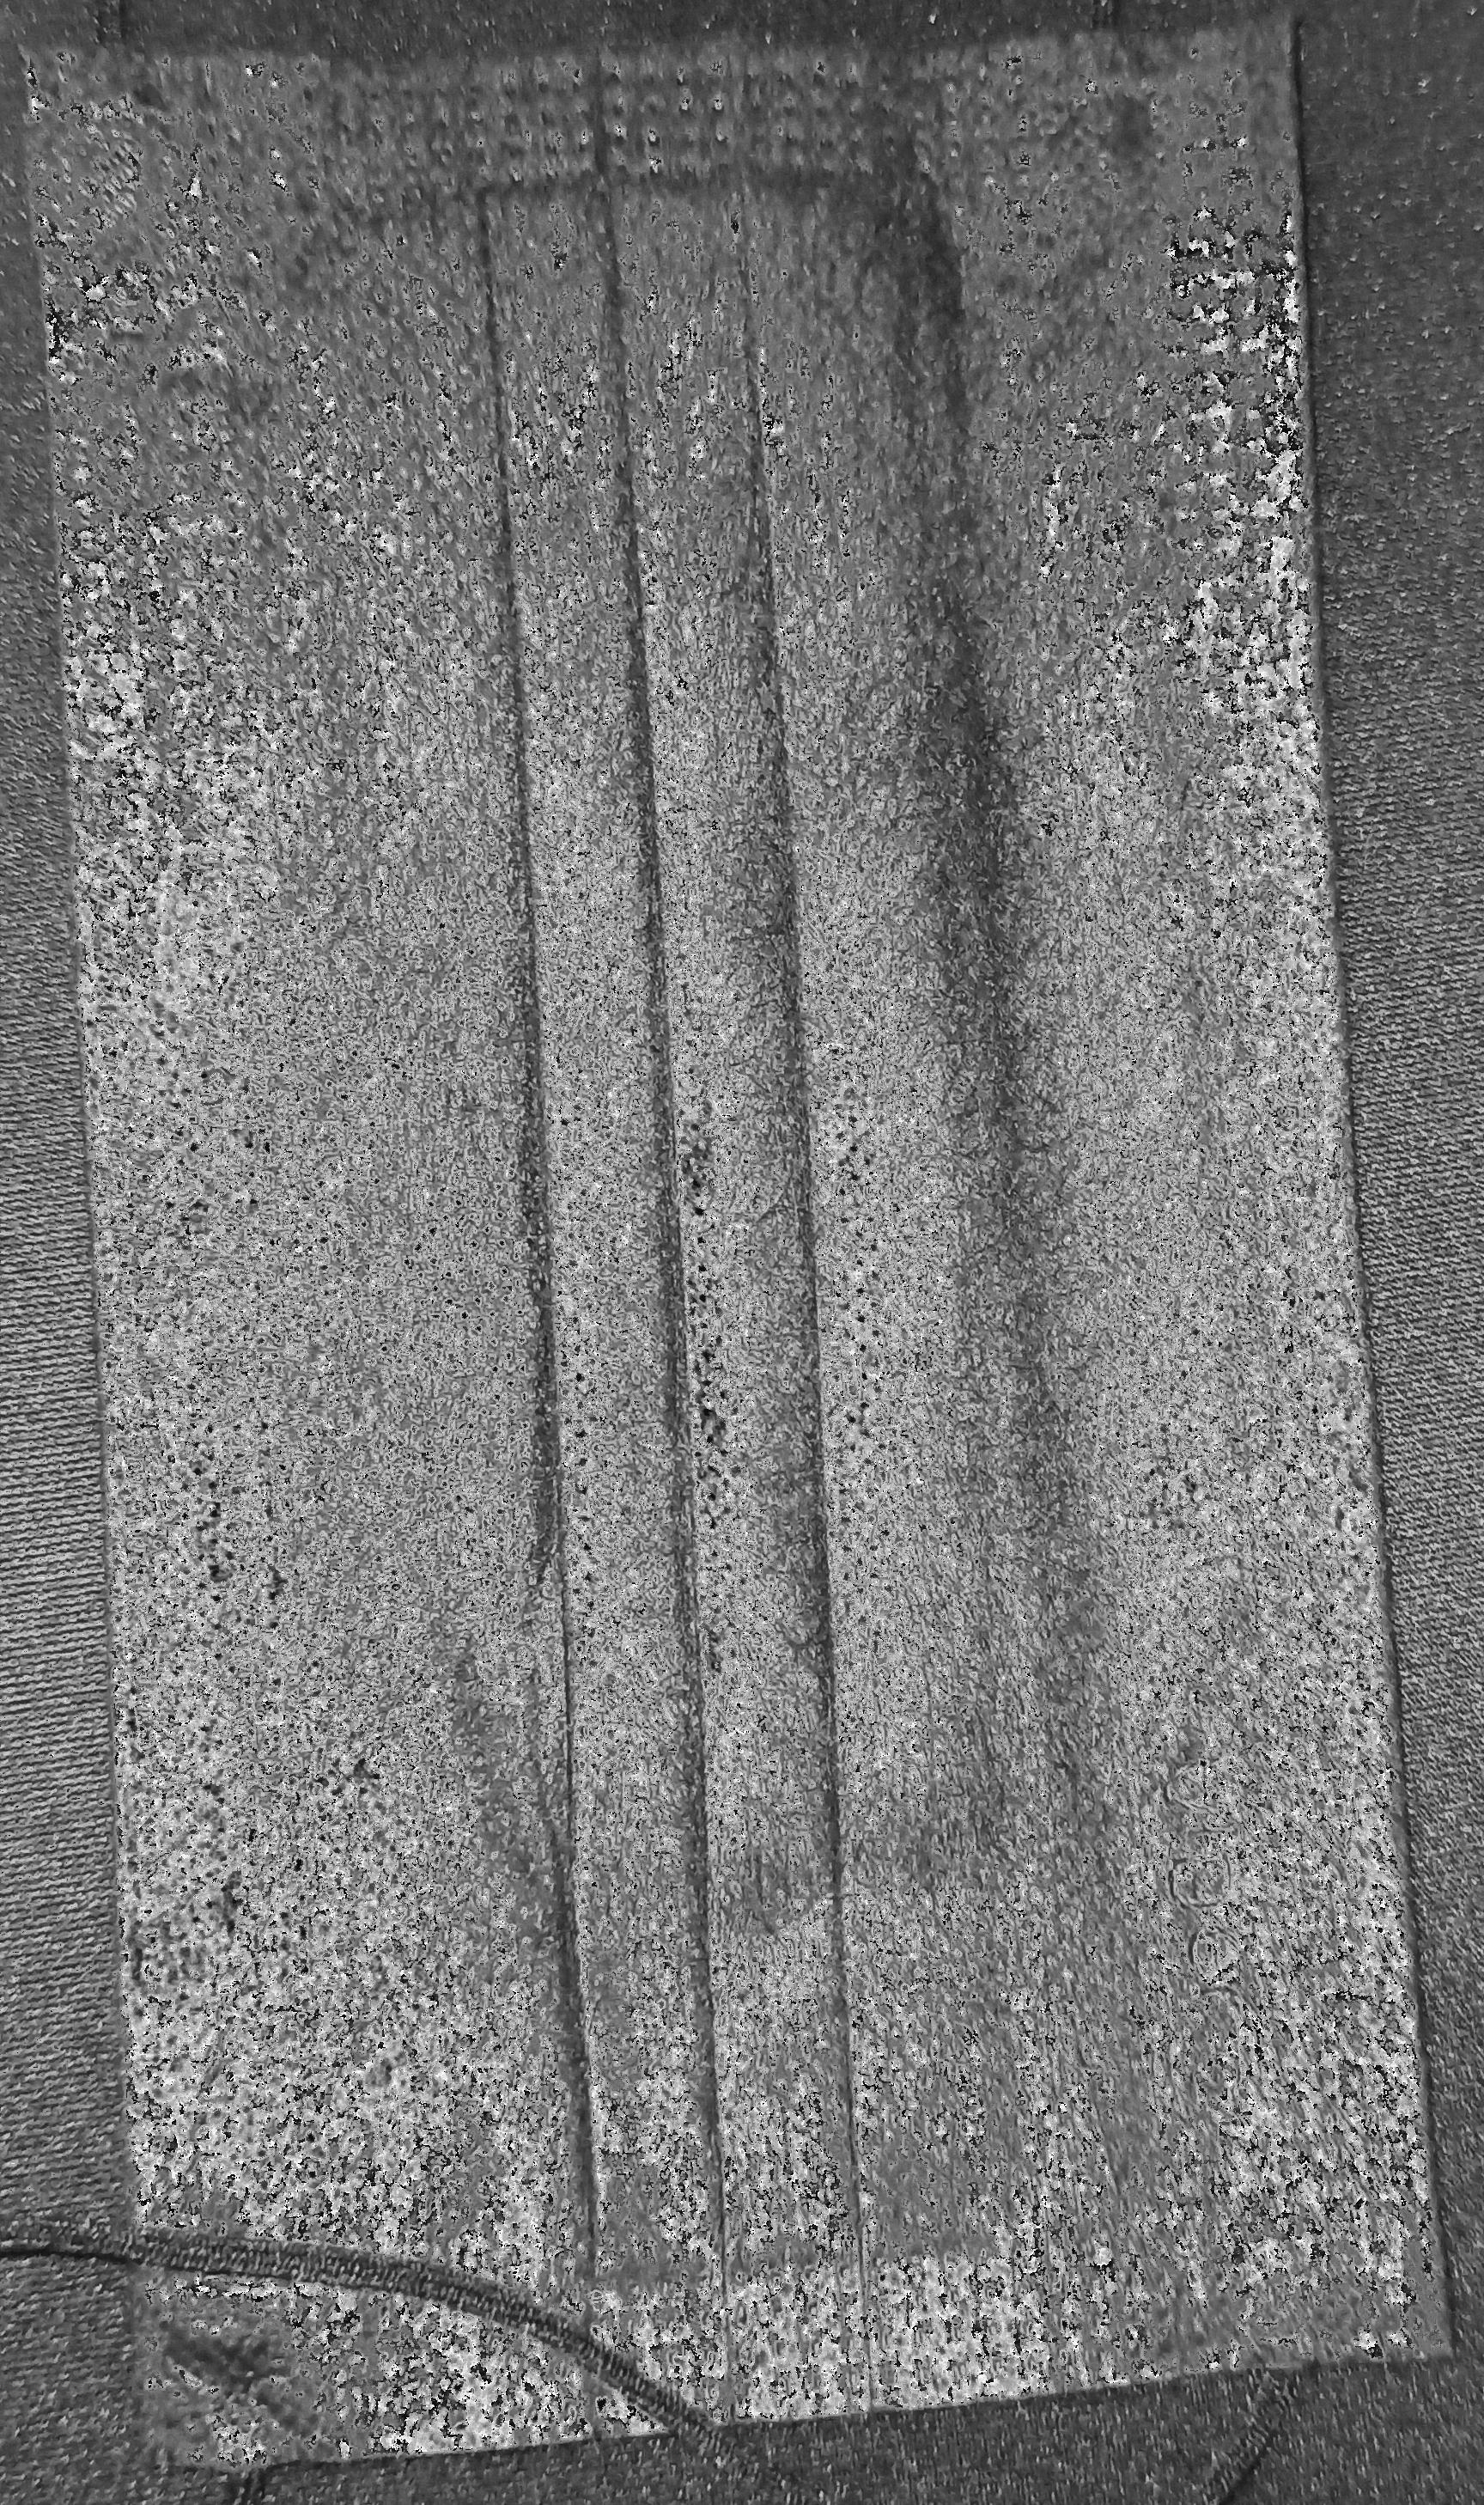Low GSM: (341, 265, 1134, 2205)
